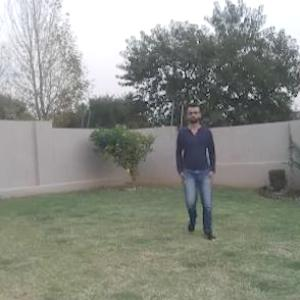follow: (180, 107, 215, 229)
